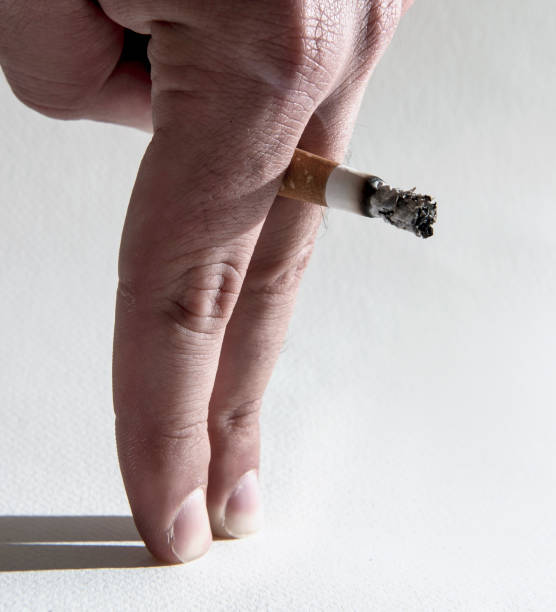cigarette: (279, 148, 439, 242)
